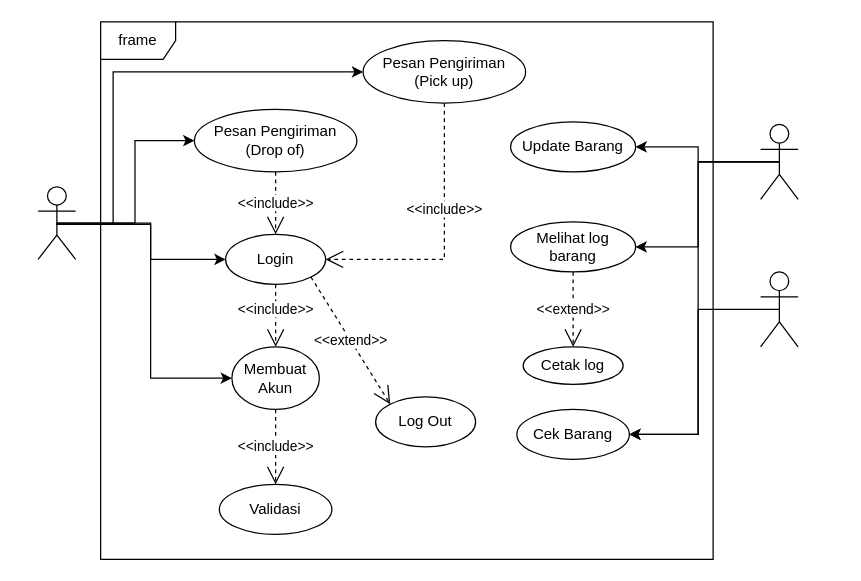
Some shapes in this 861 by 581 pixel diagram are drawn without their labels. Each missing label, with the box of its shape:
Admin Gudang: (759, 123, 798, 199)
Customer Support: (759, 271, 798, 347)
Pelanggan: (37, 186, 76, 259)
